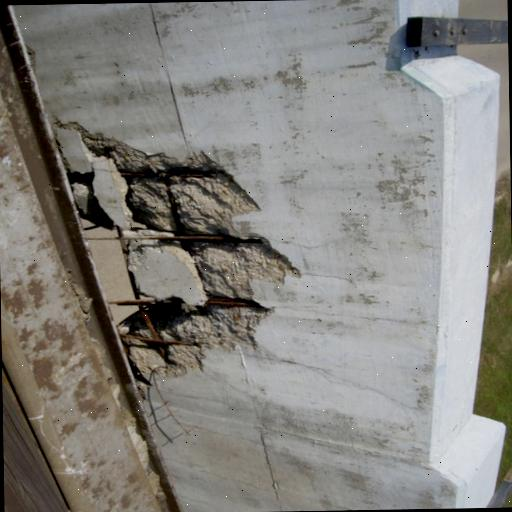spalling: (53, 109, 283, 393)
